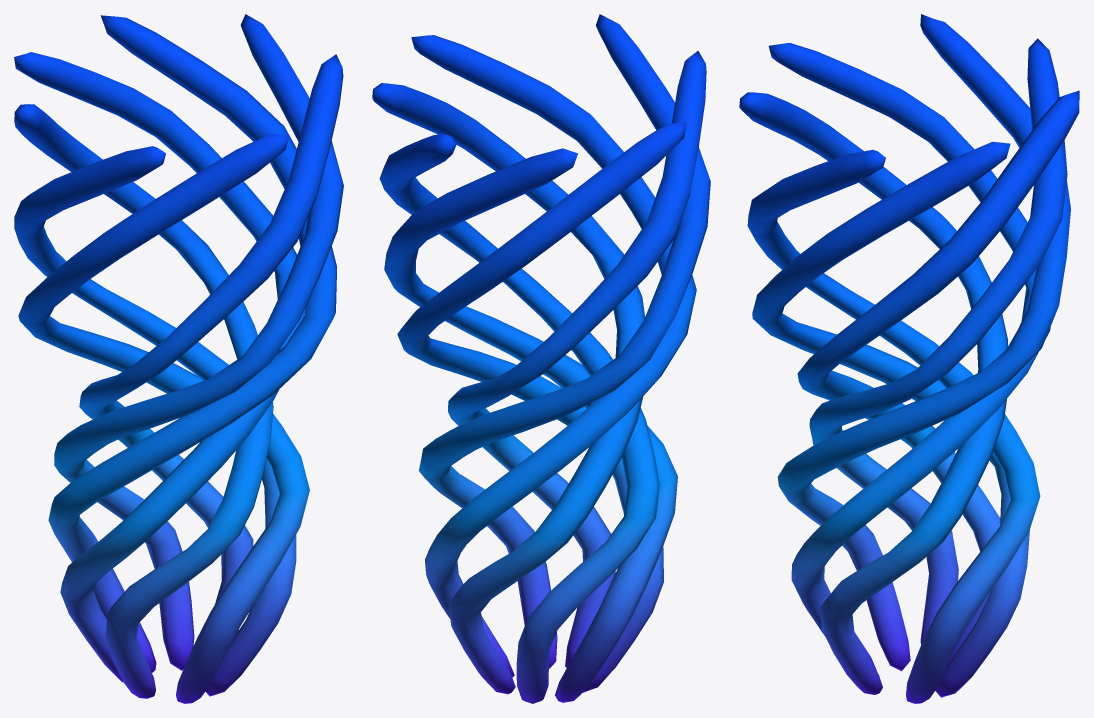
Rendered from Plante B.glb.
The picture shows the model from 3 angles, left to right: view 1: azimuth 30°, elevation 25°; view 2: azimuth 150°, elevation 25°; view 3: azimuth 270°, elevation 25°; orthographic projection.
Parts seen in each view (by area): view 1: Cube.006; view 2: Cube.006; view 3: Cube.006.
Boxes of the visible parts, x1,y1,x2,y2 form: Cube.006: [14, 14, 343, 703]; Cube.006: [372, 14, 710, 703]; Cube.006: [739, 14, 1079, 703].
Bounding box in the file's own units: 0.7945 × 1.56 × 0.8009.
Materials: 1 (1 with a texture image).
